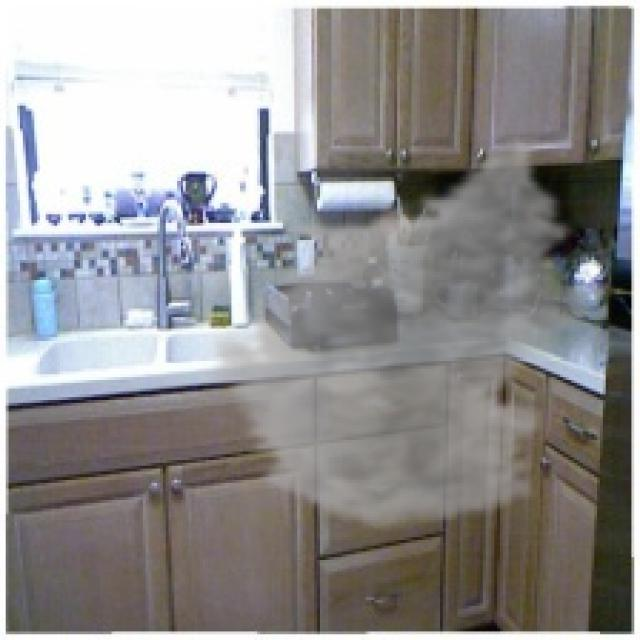Smoke: (195, 132, 600, 534)
